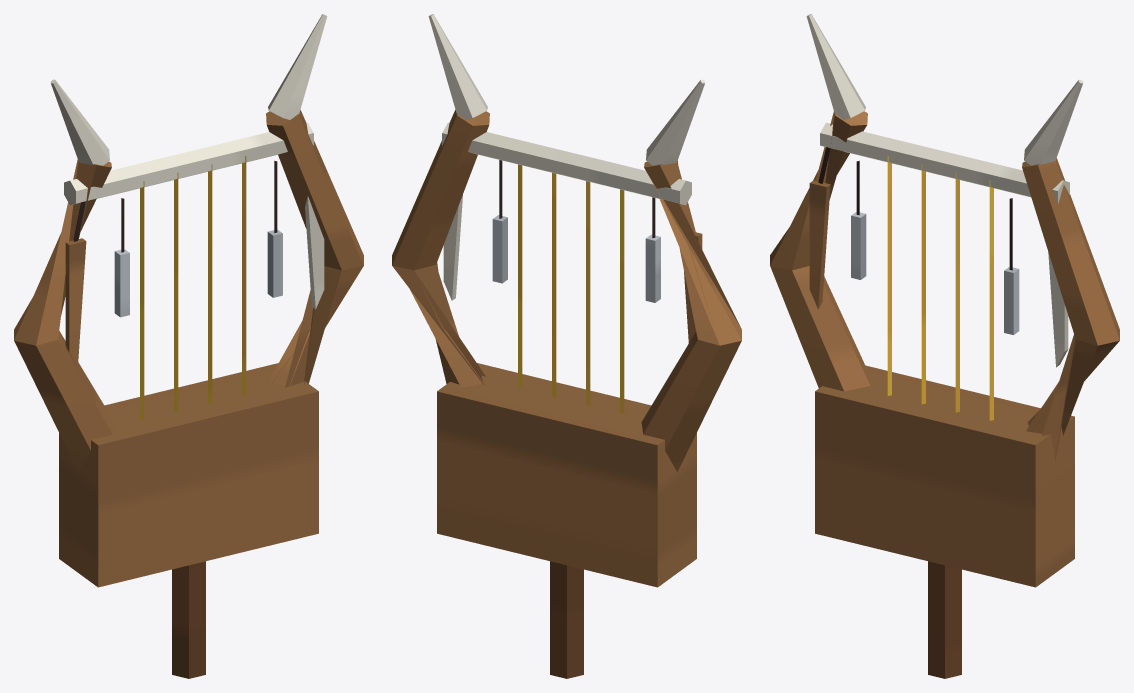
Rendered from SM_Prop_DriftwoodLyre_HQ.glb.
3 views of the same model, side by side, from view 1: azimuth 30°, elevation 25°; view 2: azimuth 150°, elevation 25°; view 3: azimuth 330°, elevation 25° (orthographic).
Parts seen in each view (by area): view 1: SM_Prop_DriftwoodLyre_HQ; view 2: SM_Prop_DriftwoodLyre_HQ; view 3: SM_Prop_DriftwoodLyre_HQ.
Boxes of the visible parts, x1=… form: SM_Prop_DriftwoodLyre_HQ: x1=14, y1=14, x2=363, y2=678; SM_Prop_DriftwoodLyre_HQ: x1=392, y1=14, x2=741, y2=678; SM_Prop_DriftwoodLyre_HQ: x1=770, y1=14, x2=1119, y2=678.
Size of the model in its own units: 0.412 by 0.7013 by 0.08.
1 material, 1 textured.
